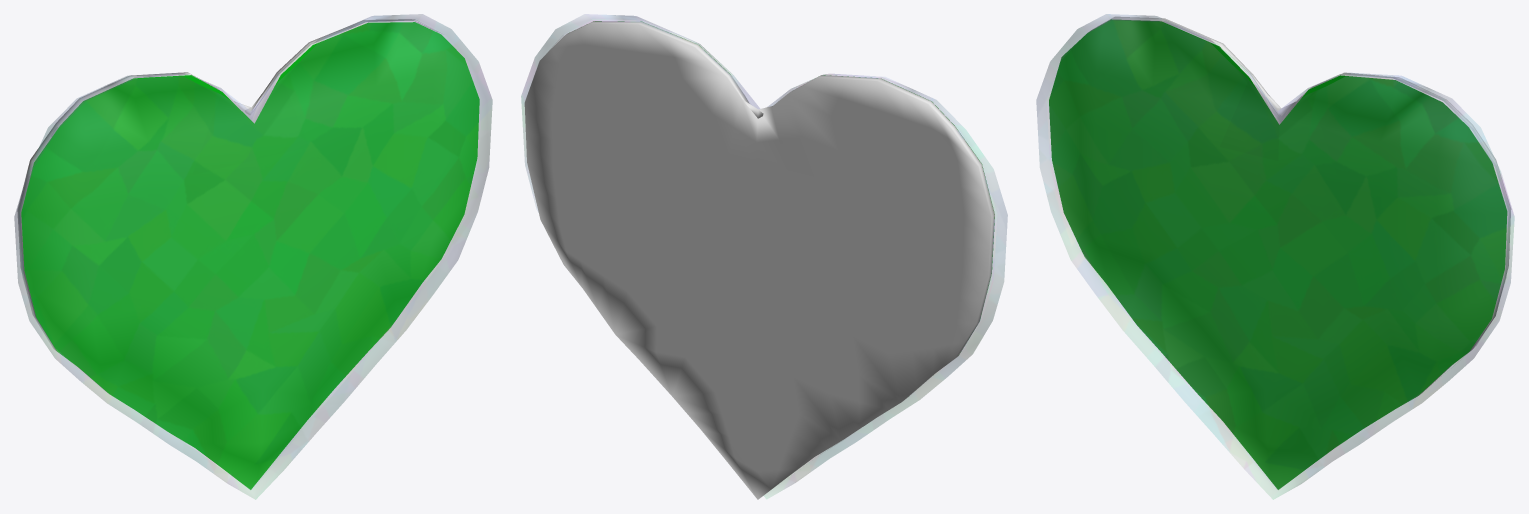
File: heart_gre_holo.glb
3 renders of one model, left to right at view 1: azimuth 30°, elevation 25°; view 2: azimuth 150°, elevation 25°; view 3: azimuth 330°, elevation 25°, orthographic.
Visible parts, largest first — view 1: 平面, PHOTO_PLANE, 平面11; view 2: 平面11, 平面; view 3: 平面, PHOTO_PLANE, 平面11.
Part boxes in pixels (<box>): 平面: <box>14,14,492,499</box>; PHOTO_PLANE: <box>21,22,479,489</box>; 平面11: <box>17,19,439,391</box>; 平面11: <box>524,21,994,499</box>; 平面: <box>521,14,1007,498</box>; 平面: <box>1036,14,1514,499</box>; PHOTO_PLANE: <box>1049,19,1507,489</box>; 平面11: <box>1091,16,1511,394</box>.
Size of the model in its own units: 2.28 by 2.05 by 0.1344.
3 materials, 1 textured.
